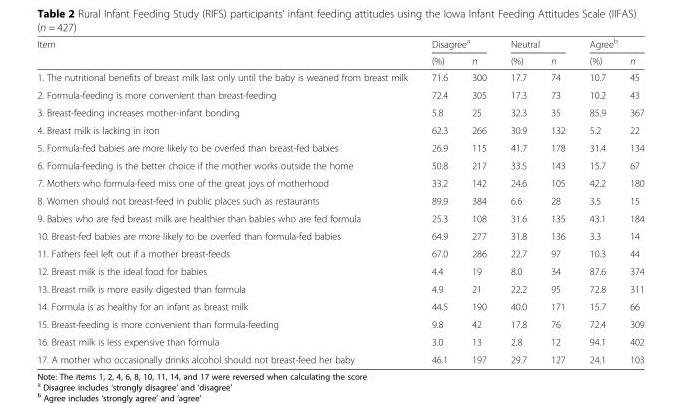table: (36, 36, 643, 364)
table column: (36, 36, 418, 364), (418, 36, 459, 364), (497, 36, 538, 364), (576, 36, 617, 364), (459, 36, 497, 364), (538, 36, 576, 364), (617, 36, 643, 364)
table column header: (36, 36, 643, 68)
table row: (36, 85, 643, 103), (36, 103, 643, 121), (36, 138, 643, 156), (36, 173, 643, 191), (36, 191, 643, 209), (36, 226, 643, 244), (36, 244, 643, 262), (36, 279, 643, 297), (36, 297, 643, 315), (36, 332, 643, 350), (36, 68, 643, 85), (36, 121, 643, 138), (36, 156, 643, 173), (36, 209, 643, 226), (36, 262, 643, 279), (36, 315, 643, 332), (36, 36, 643, 52), (36, 52, 643, 68), (36, 350, 643, 364)
table spanning cell: (36, 36, 418, 68), (418, 36, 497, 52), (497, 36, 576, 52), (576, 36, 643, 52)
